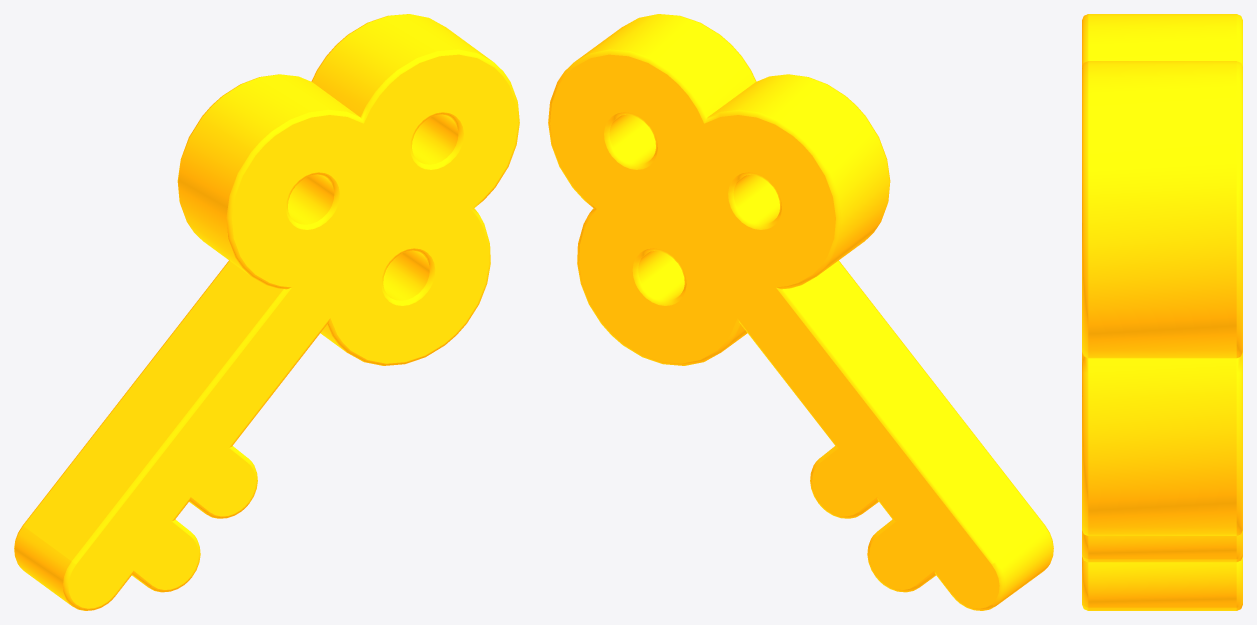
Rendered from key.fbx.
3 renders of one model, left to right at view 1: azimuth 30°, elevation 25°; view 2: azimuth 150°, elevation 25°; view 3: azimuth 270°, elevation 25°, orthographic. The views are drawn at different scales.
Parts seen in each view (by area): view 1: key; view 2: key; view 3: key.
Part boxes in pixels (x1=…): key: x1=14, y1=14, x2=519, y2=610; key: x1=548, y1=14, x2=1053, y2=610; key: x1=1082, y1=14, x2=1242, y2=610.
Size of the model in its own units: 131 by 130 by 26.
